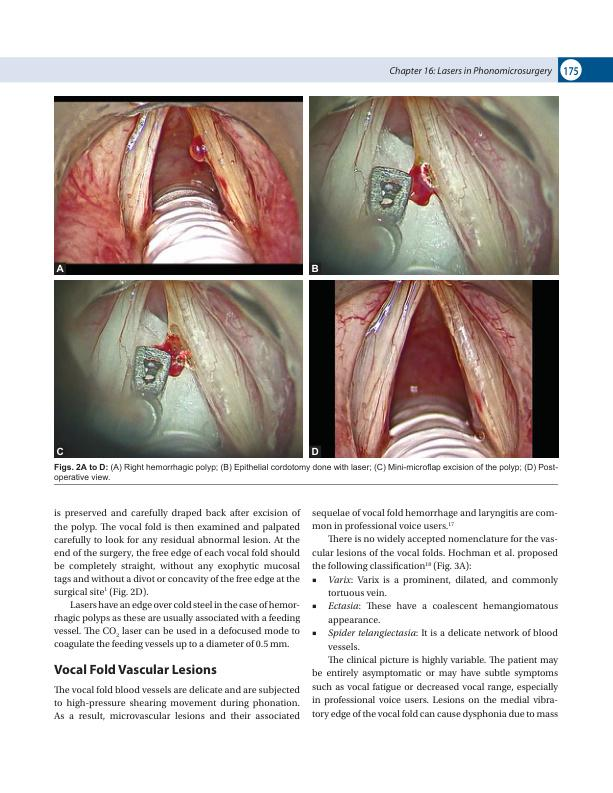caption: (53, 462, 559, 482), (310, 446, 320, 456), (56, 263, 65, 273), (56, 447, 65, 456), (311, 264, 319, 273)
header: (389, 65, 553, 77)
image: (308, 279, 560, 458), (53, 95, 303, 275), (53, 279, 303, 459), (308, 95, 558, 275)
list: (310, 574, 559, 651)
sub-section-heading: (52, 663, 218, 675)
text: (52, 508, 301, 651), (311, 654, 559, 721), (310, 508, 558, 572), (53, 685, 301, 722)
